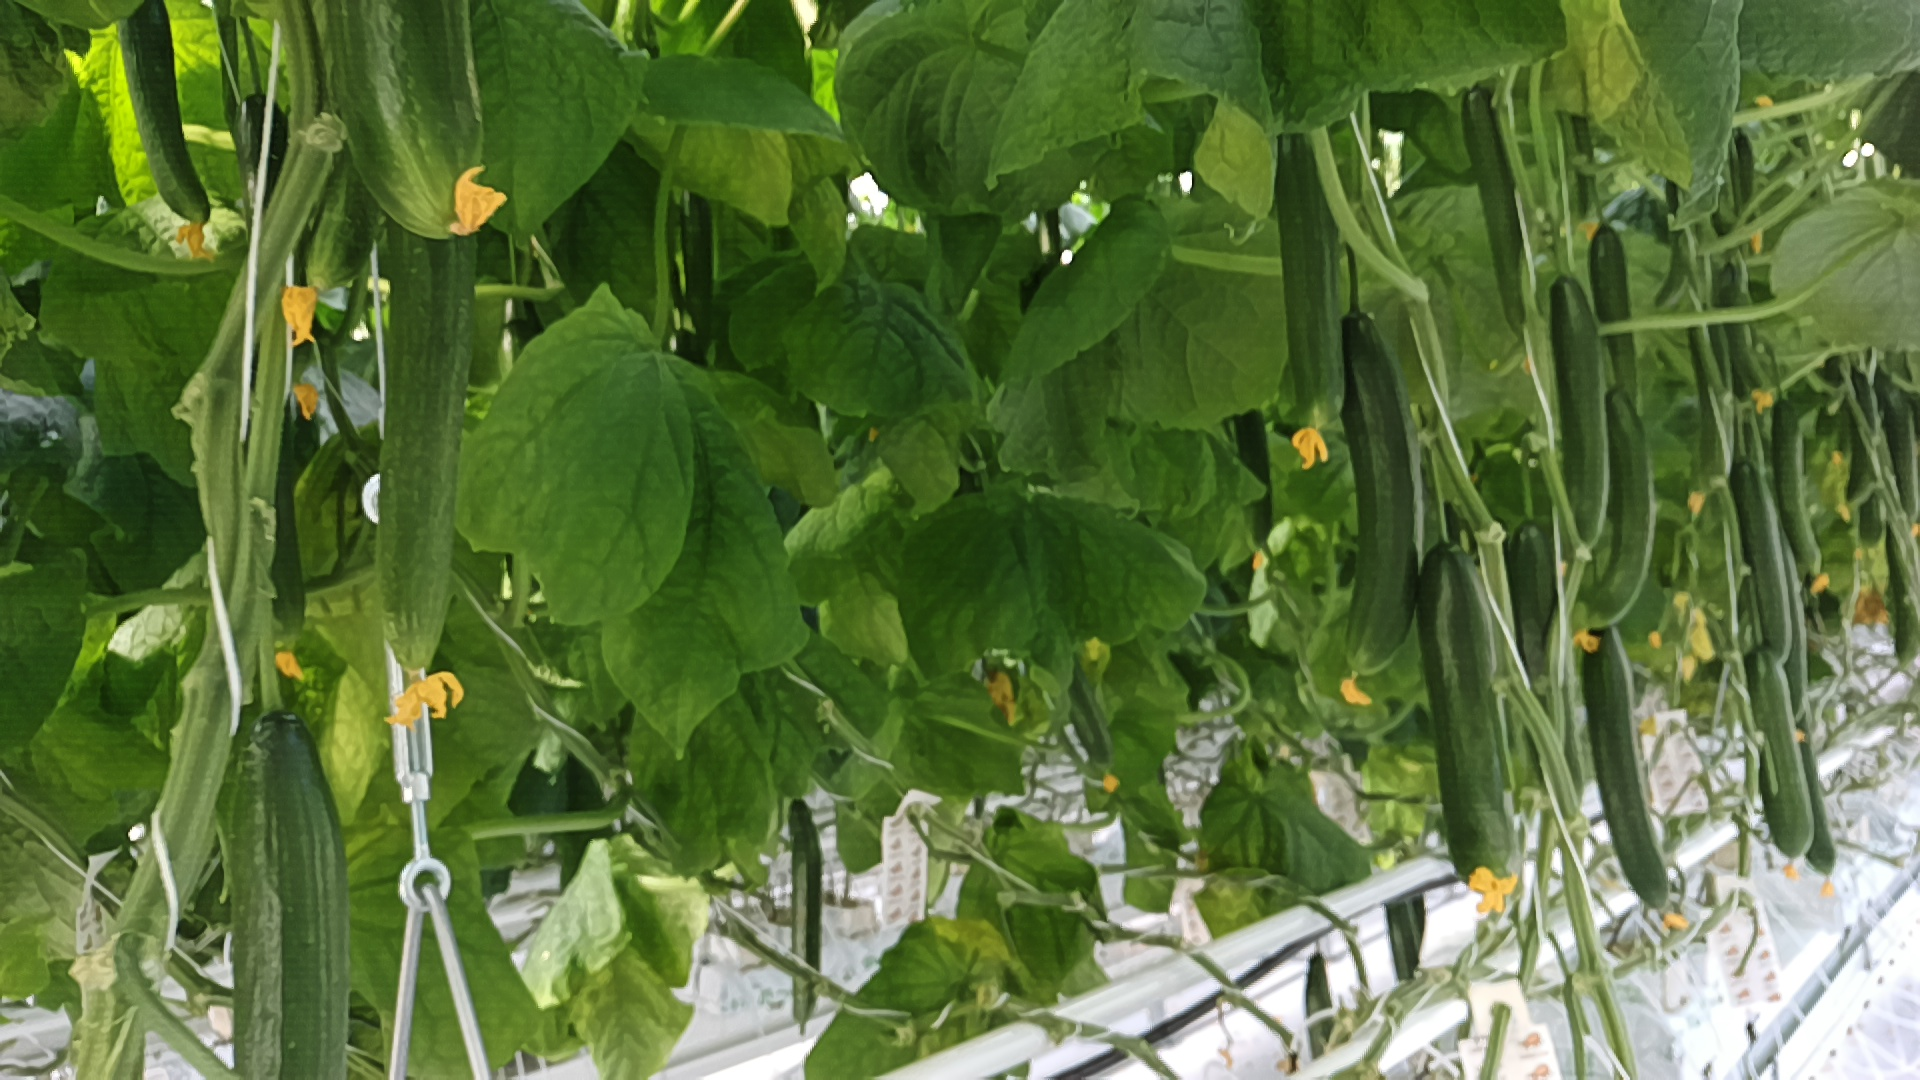gurka: (1404, 534, 1551, 911), (1323, 290, 1429, 711), (1575, 613, 1695, 916), (1451, 82, 1560, 353), (1557, 382, 1665, 638), (1727, 632, 1832, 862), (1538, 272, 1615, 568)
